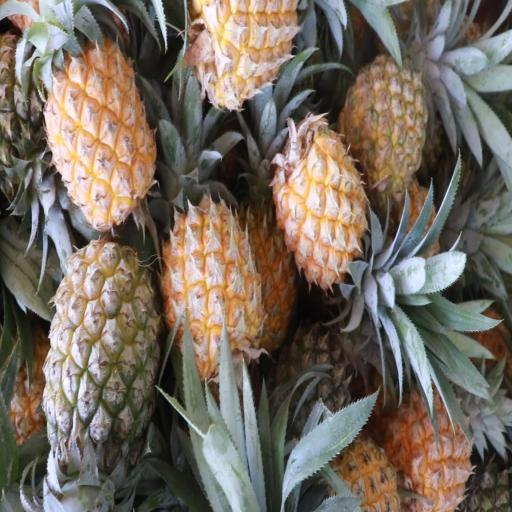------------------------------: (48, 244, 160, 465), (343, 60, 426, 195)
Pineapple - v8 v1: (50, 42, 154, 227), (167, 199, 260, 375), (278, 121, 368, 284), (388, 373, 473, 512), (192, 0, 298, 105), (236, 211, 296, 358)
